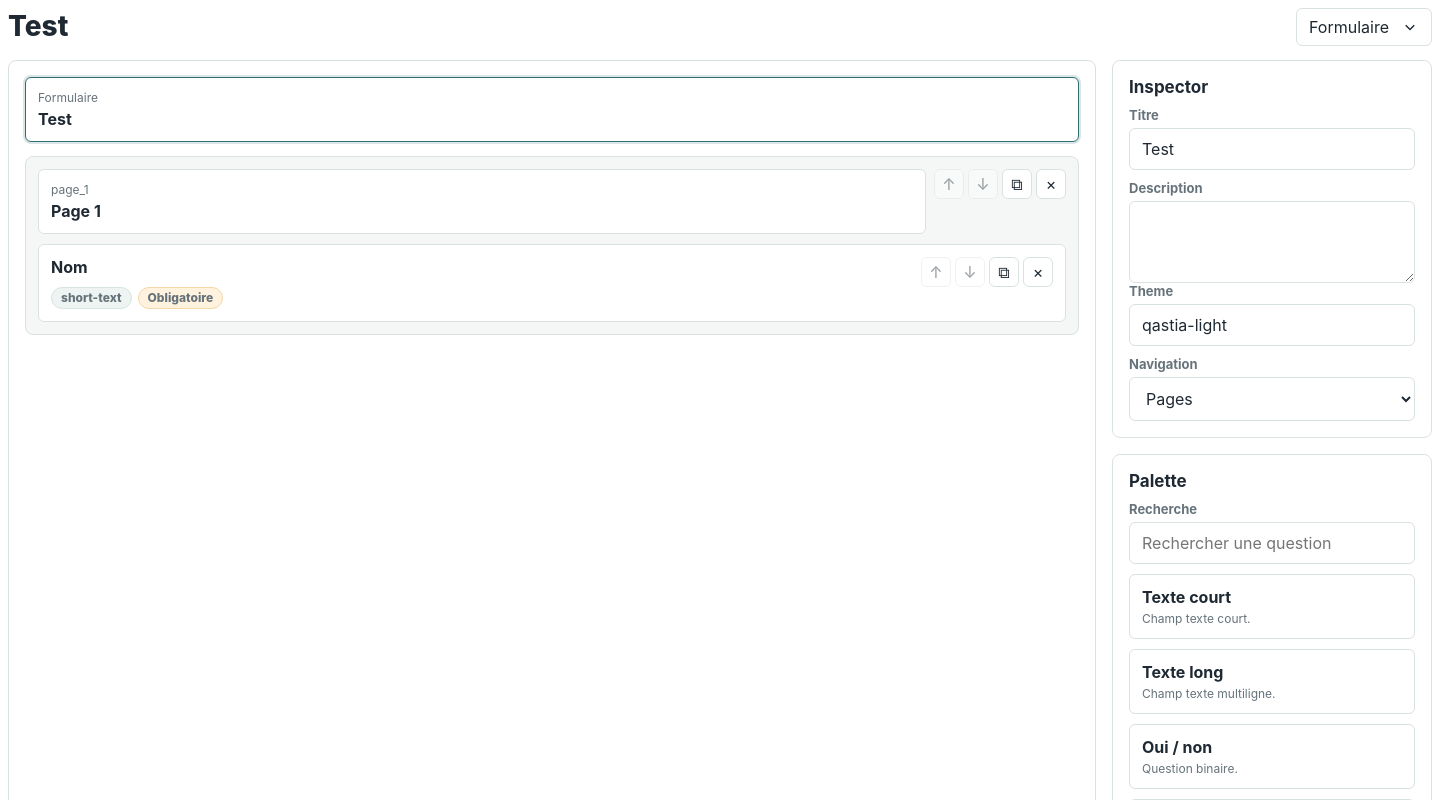
Test: FormDesigner › shows the inspector before the searchable palette
The image size is (1440, 800).
Type "oui" into the search field labelled "Recherche". click: x=1272, y=543
box: [1129,522,1415,564]
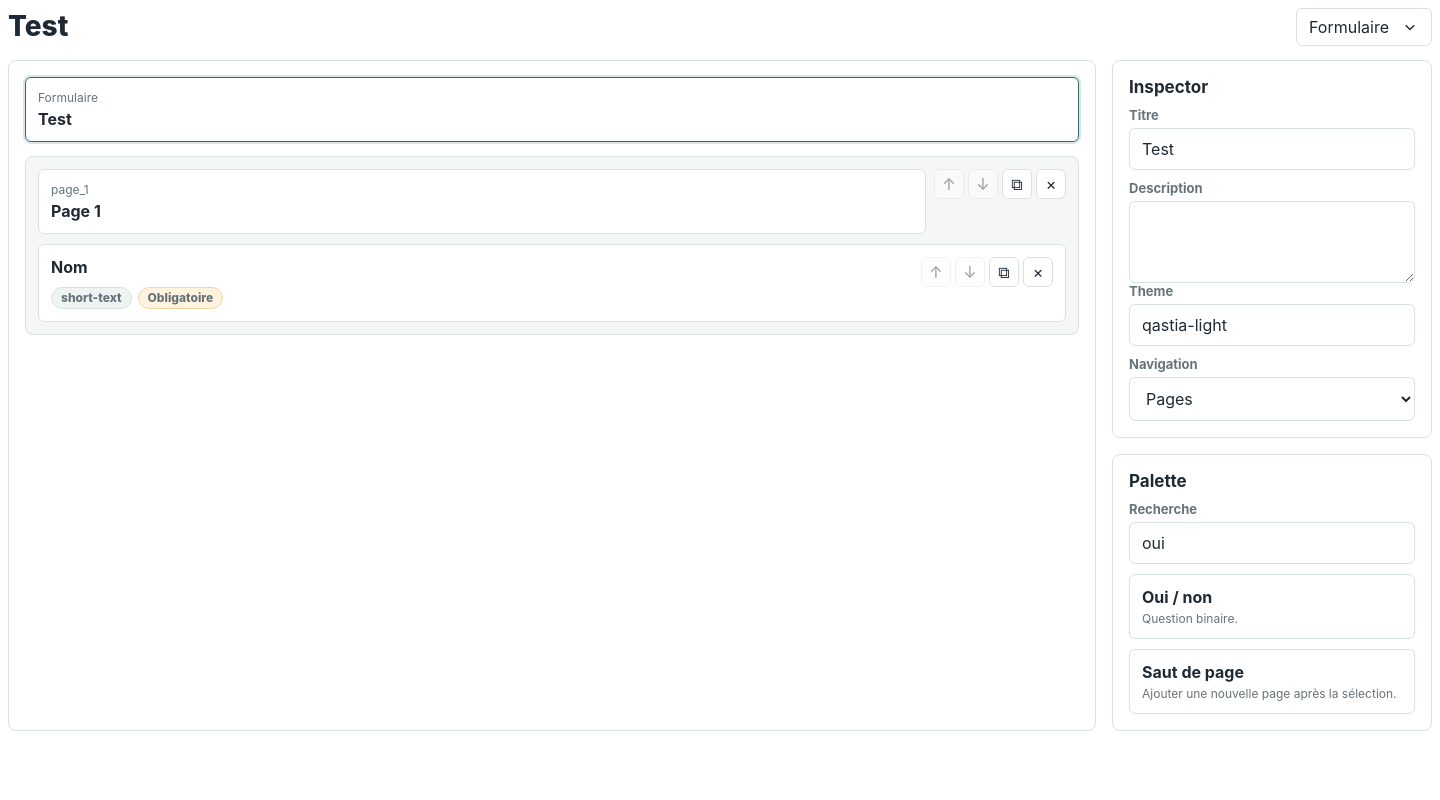
Check: the button "Oui / non Question binaire." is shown, box [1129,574,1415,639]
Check: the button "Texte court" is gone
